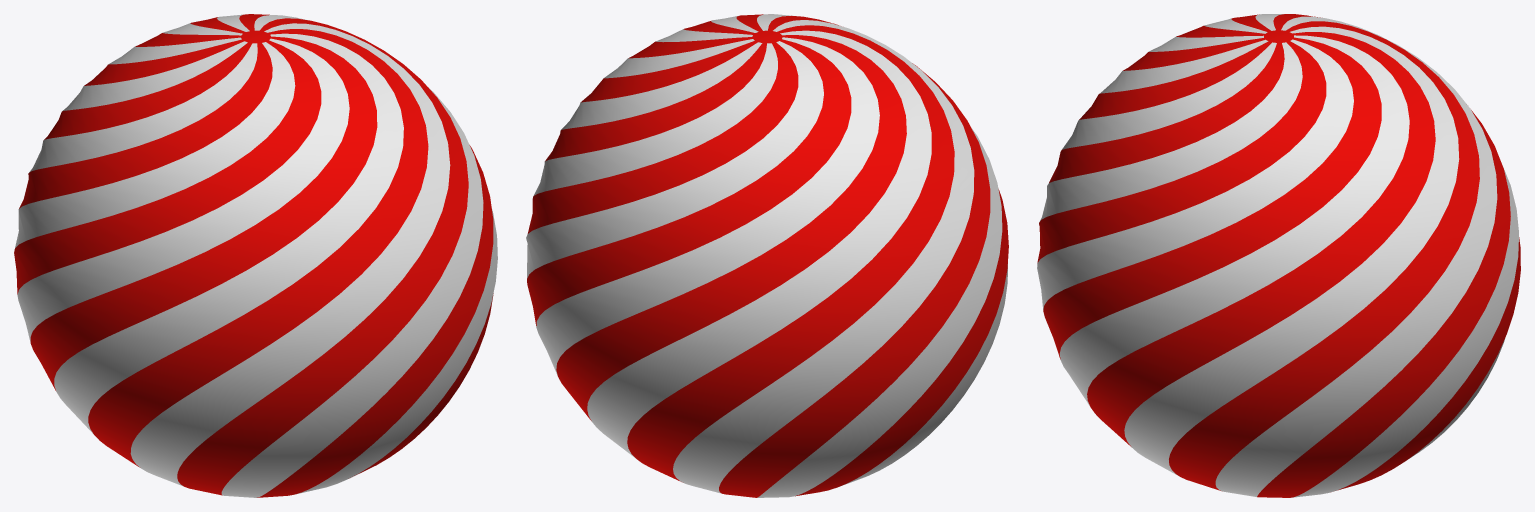
The model's file is Round_CylRedWhiteCandy.glb.
3 views of the same model, side by side, from view 1: azimuth 30°, elevation 25°; view 2: azimuth 150°, elevation 25°; view 3: azimuth 270°, elevation 25° (orthographic).
Visible parts, largest first — view 1: Candy_Sphere, Candy_Sphere.001; view 2: Candy_Sphere.001, Candy_Sphere; view 3: Candy_Sphere, Candy_Sphere.001.
Part boxes in pixels (x1,y1,x2,y2): Candy_Sphere: [14, 14, 493, 497]; Candy_Sphere.001: [15, 14, 497, 497]; Candy_Sphere.001: [526, 14, 1007, 497]; Candy_Sphere: [527, 14, 1008, 497]; Candy_Sphere: [1037, 14, 1520, 497]; Candy_Sphere.001: [1037, 14, 1518, 497].
Bounding box in the file's own units: 23.04 × 23.09 × 23.04.
